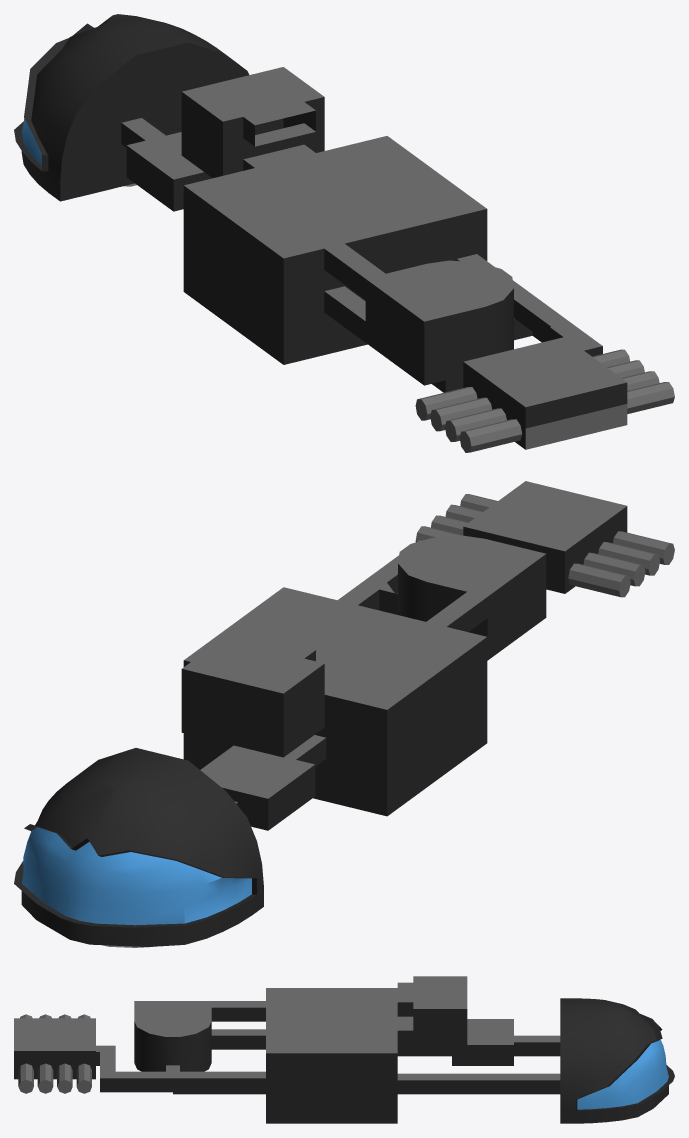
File: DerelictShipInt.fbx
The picture shows the model from 3 angles, top to bottom: view 1: azimuth 30°, elevation 25°; view 2: azimuth 150°, elevation 25°; view 3: azimuth 270°, elevation 25°; orthographic projection. The views are drawn at different scales.
Parts seen in each view (by area): view 1: ShipInterior; view 2: ShipInterior; view 3: ShipInterior.
Part boxes in pixels (x1=…): ShipInterior: x1=14, y1=14, x2=674, y2=452; ShipInterior: x1=14, y1=481, x2=674, y2=947; ShipInterior: x1=14, y1=976, x2=674, y2=1123.
Bounding box in the file's own units: 4227 × 3200 × 17059.
